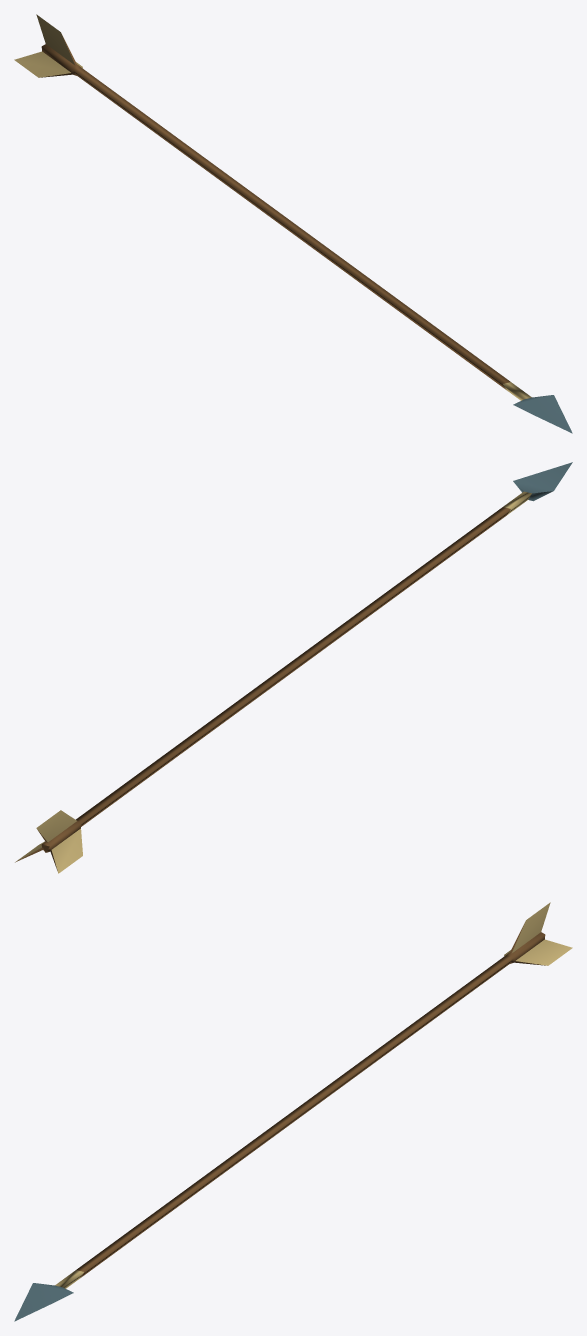
Rendered from obj_arrow_LOW.FBX.
3 renders of one model, top to bottom at view 1: azimuth 30°, elevation 25°; view 2: azimuth 150°, elevation 25°; view 3: azimuth 330°, elevation 25°, orthographic.
Visible parts, largest first — view 1: obj_arrow_LOW; view 2: obj_arrow_LOW; view 3: obj_arrow_LOW.
Boxes of the visible parts, x1,y1,x2,y2 form: obj_arrow_LOW: (14, 14, 572, 433); obj_arrow_LOW: (15, 462, 572, 873); obj_arrow_LOW: (14, 902, 572, 1321).
Bounding box in the file's own units: 0.0969 × 0.0839 × 2.02.
